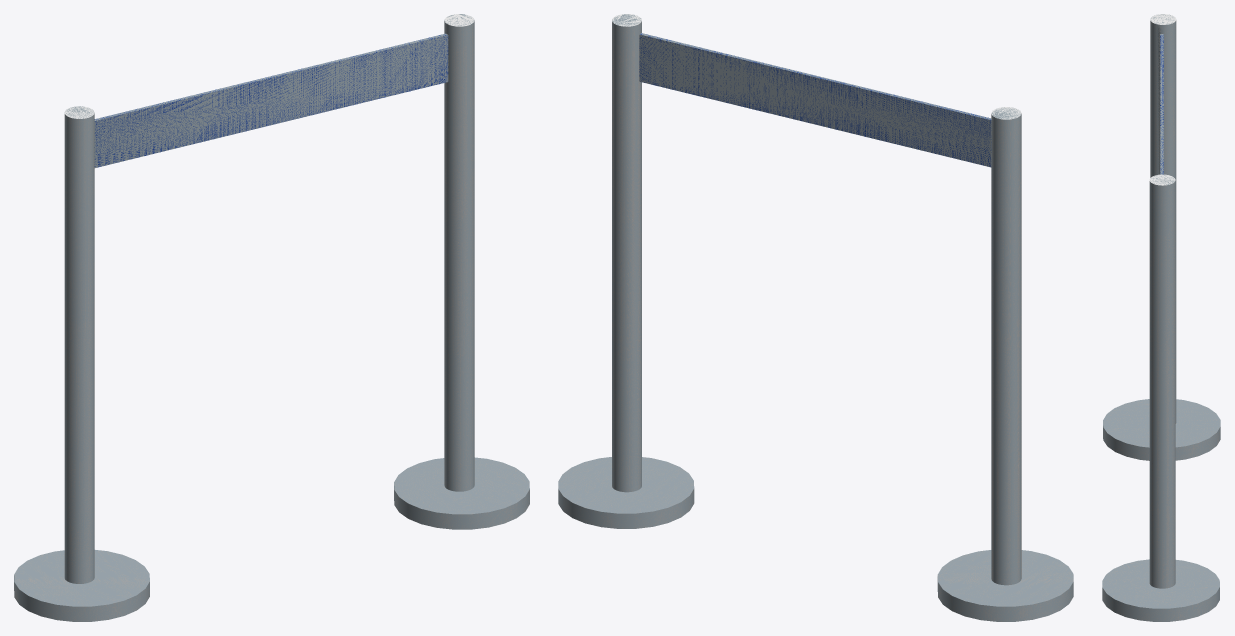
The model's file is Pole.fbx.
3 views of the same model, side by side, from view 1: azimuth 30°, elevation 25°; view 2: azimuth 150°, elevation 25°; view 3: azimuth 270°, elevation 25° (orthographic). The views are drawn at different scales.
Visible parts, largest first — view 1: Model; view 2: Model; view 3: Model.
Part boxes in pixels (<box>): Model: <box>14,14,529,621</box>; Model: <box>558,14,1073,621</box>; Model: <box>1102,14,1220,621</box>.
Bounding box in the file's own units: 698 × 645 × 166.
